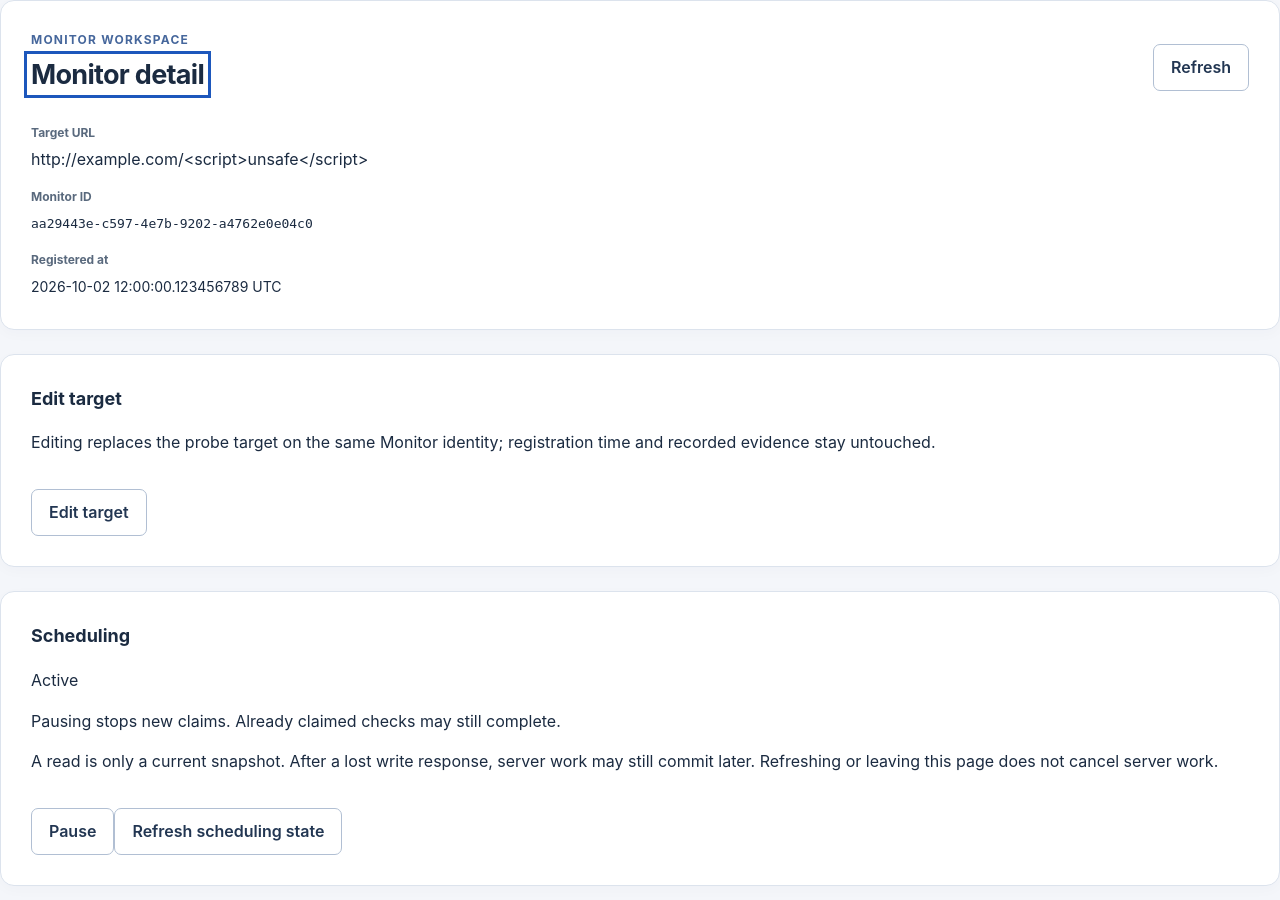
Test: a current Monitor404 removes previously successful snapshots after refresh
The width and height of the screenshot is (1280, 900).
Click the button with aria-label "Refresh monitor" at [1201, 68], box [1153,44,1249,91]
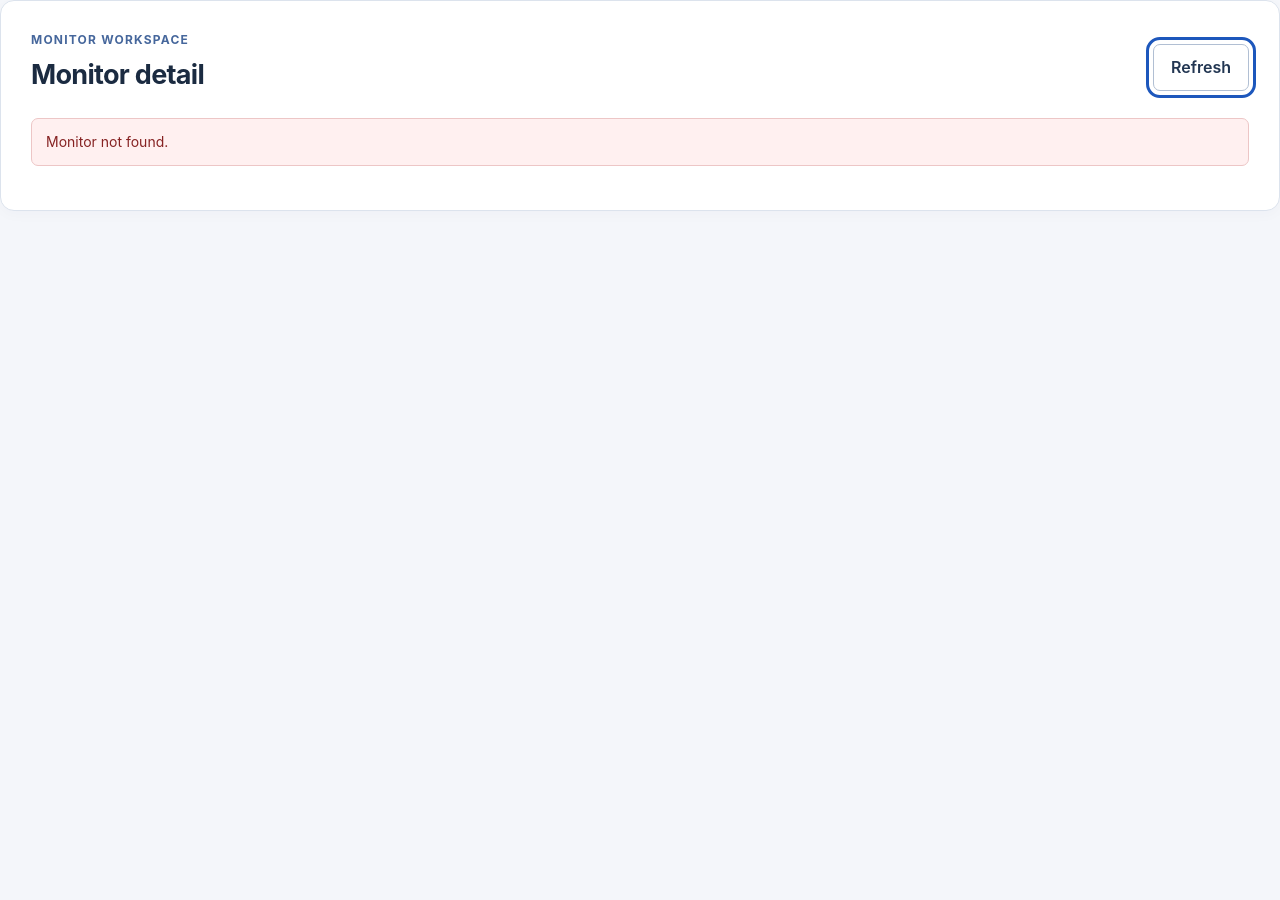
Check: the message reads "Monitor not found.", box [46,133,168,150]
